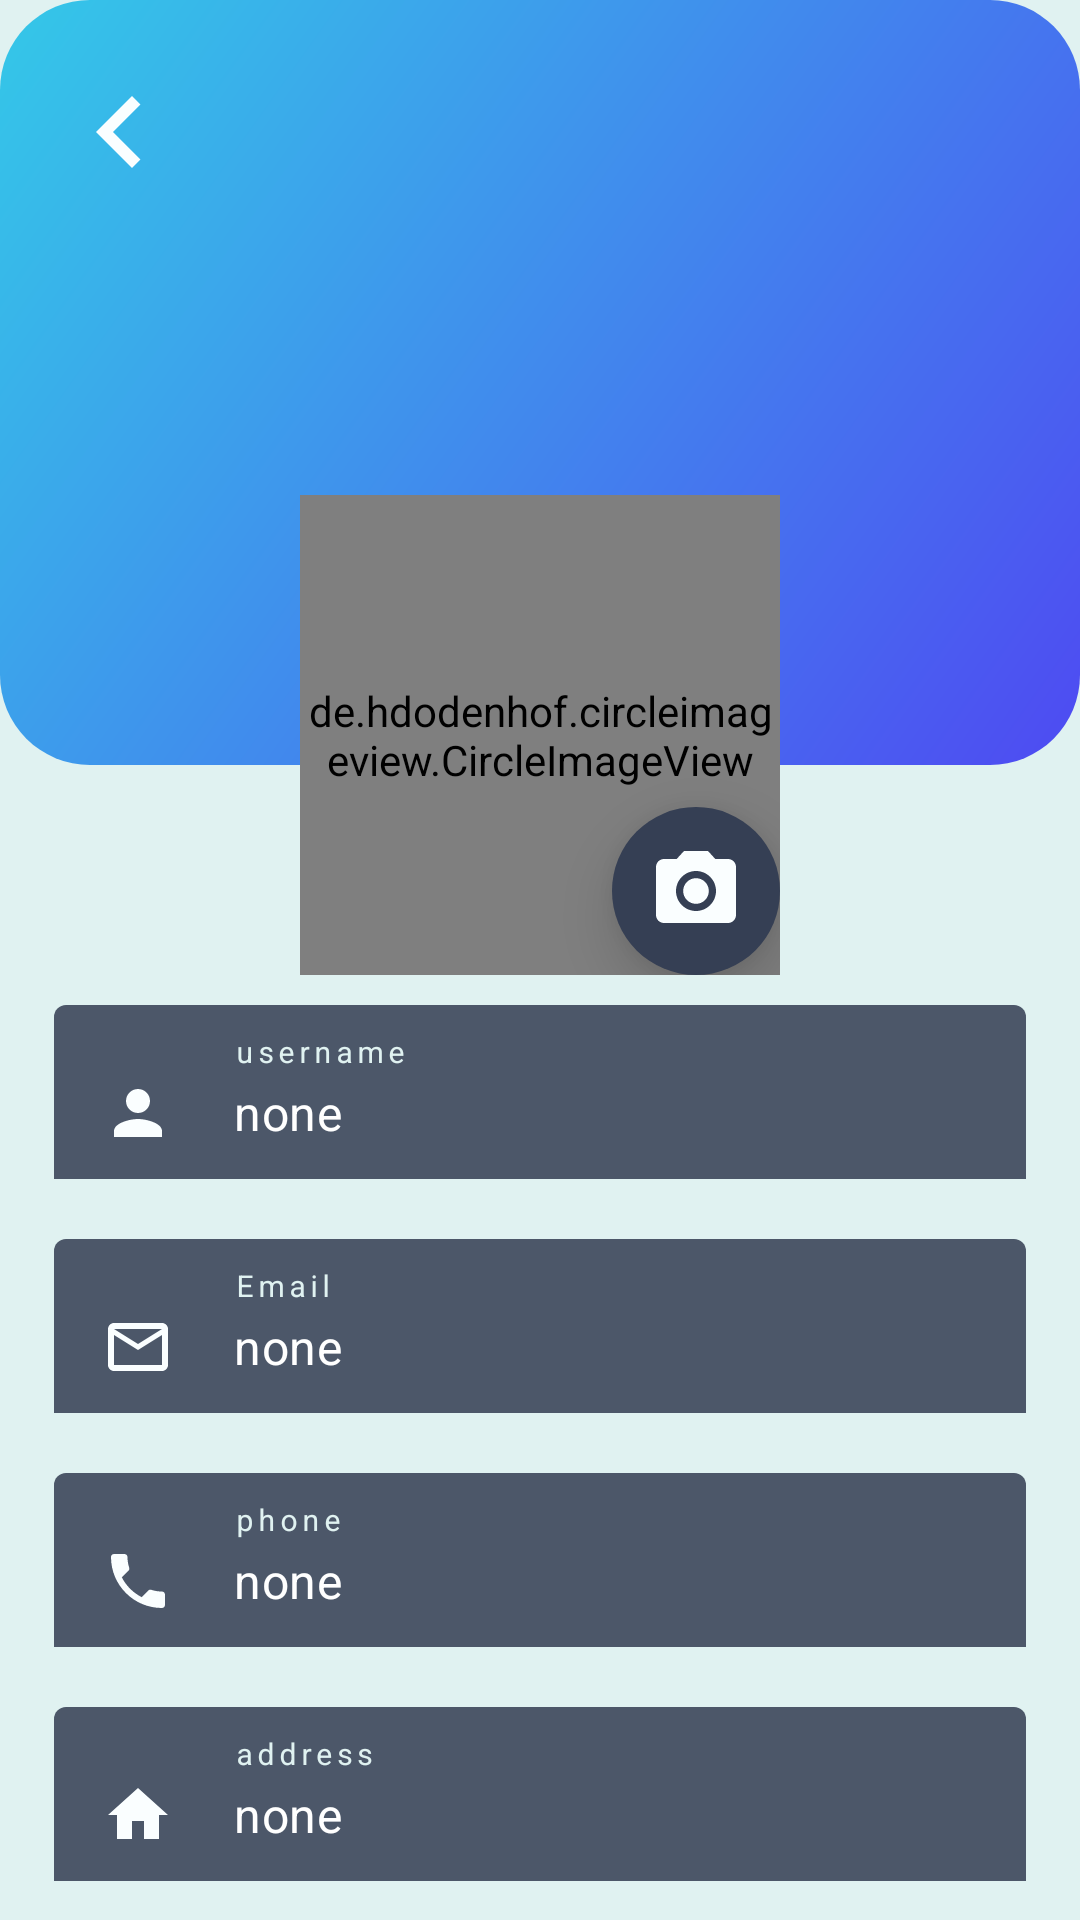

Icon click points for this 1080 × 1920 phone screenshot, format point (x, y):
edit icon: point (696, 891)
